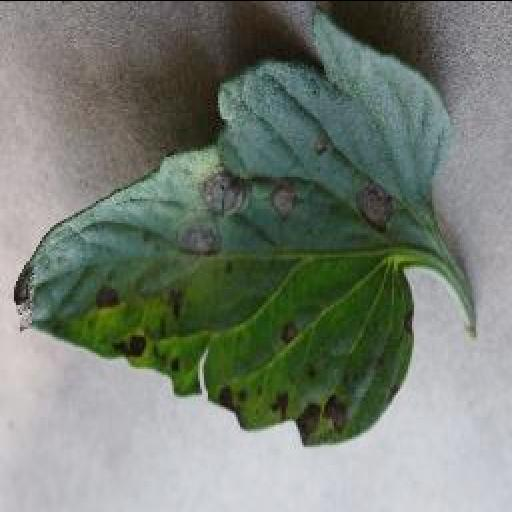disease_tomato: (8, 8, 450, 442)
